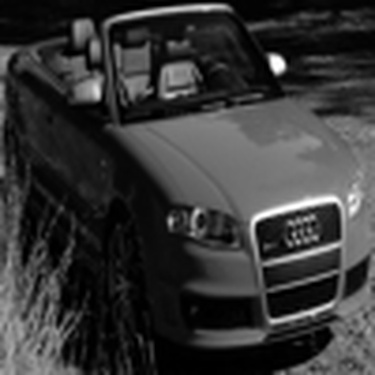car: (19, 6, 367, 350)
